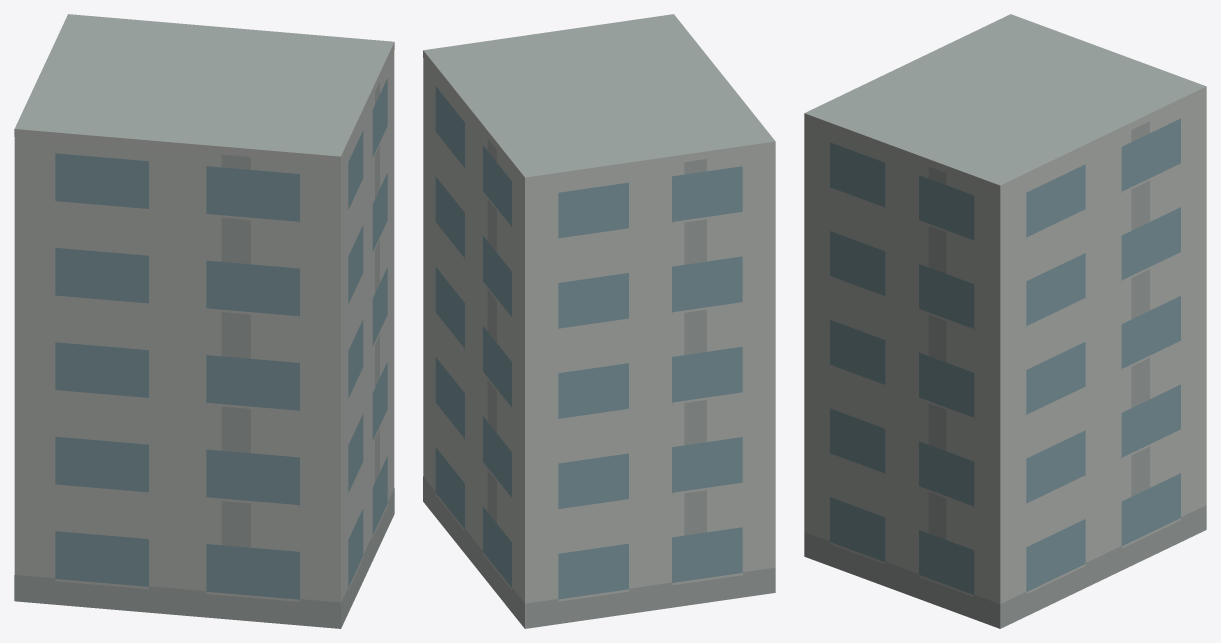
File: survey-upis-32529221.glb
3 views of the same model, side by side, from view 1: azimuth 30°, elevation 25°; view 2: azimuth 150°, elevation 25°; view 3: azimuth 270°, elevation 25° (orthographic). The views are drawn at different scales.
Parts seen in each view (by area): view 1: survey-upis-32529221.tmp; view 2: survey-upis-32529221.tmp; view 3: survey-upis-32529221.tmp.
Boxes of the visible parts, x1,y1,x2,y2 form: survey-upis-32529221.tmp: (14, 14, 394, 628); survey-upis-32529221.tmp: (423, 14, 775, 628); survey-upis-32529221.tmp: (804, 14, 1206, 628).
Size of the model in its own units: 12.03 by 14.49 by 11.93.
